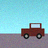vehicle: (21, 23, 44, 39)
